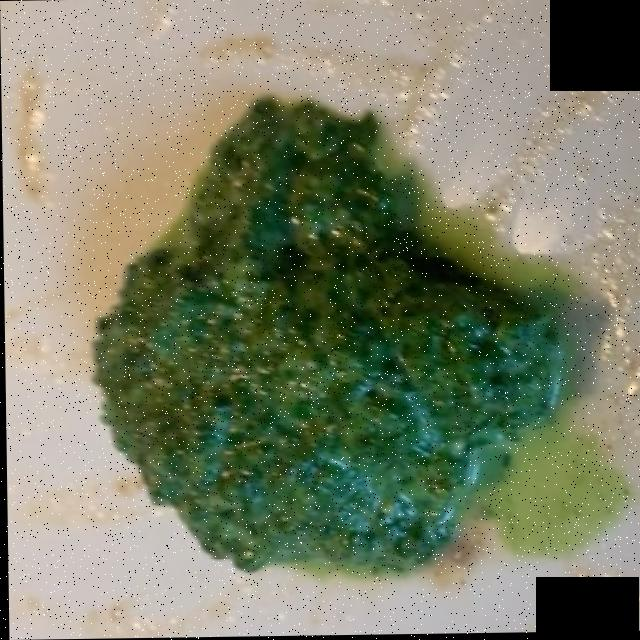cream-spinach: (98, 97, 575, 574)
